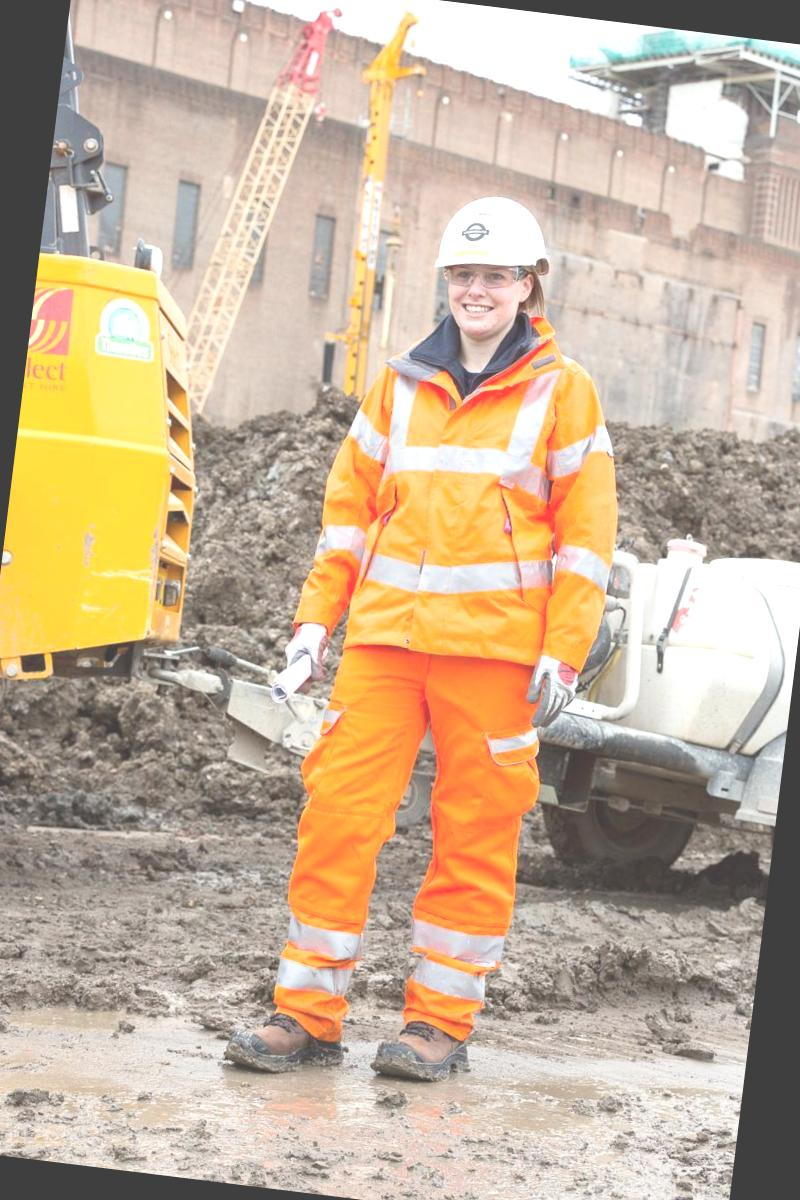helmet: (411, 188, 576, 290)
person: (260, 176, 670, 1128)
